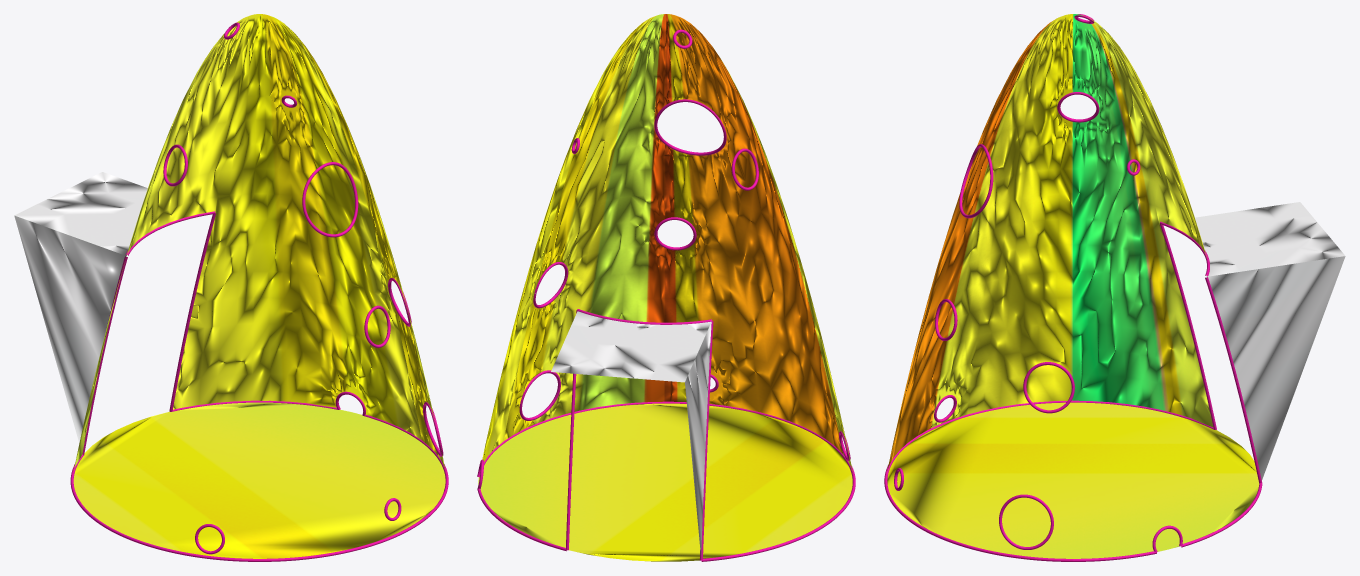
The picture shows the model from 3 angles, left to right: view 1: azimuth 30°, elevation 25°; view 2: azimuth 150°, elevation 25°; view 3: azimuth 270°, elevation 25°; orthographic projection.
Visible parts, largest first — view 1: Solids, Solids_2, Canopy, Openings, Canopy_2; view 2: Solids, Solids_2, Canopy, Openings, Canopy_2; view 3: Solids, Solids_2, Canopy, Openings, Canopy_2.
Boxes of the visible parts, x1,y1,x2,y2 form: Solids: (73,14,445,558); Solids_2: (74,14,445,558); Canopy: (14,172,147,442); Openings: (70,22,448,561); Canopy_2: (15,173,147,434); Solids: (478,14,852,561); Solids_2: (478,14,852,561); Canopy: (551,311,711,557); Openings: (477,29,855,561); Canopy_2: (552,312,710,550); Solids: (887,14,1259,558); Solids_2: (888,14,1258,558); Canopy: (1195,202,1345,480); Openings: (884,14,1262,561); Canopy_2: (1201,202,1345,473).
Bounding box in the file's own units: 7.29 × 9.91 × 8.89.
Materials: 3 (3 with a texture image).
